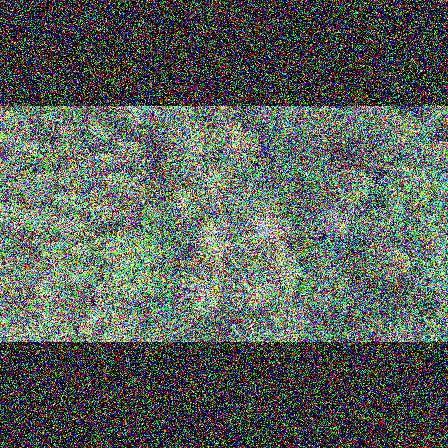Sick: (244, 209, 287, 248)
